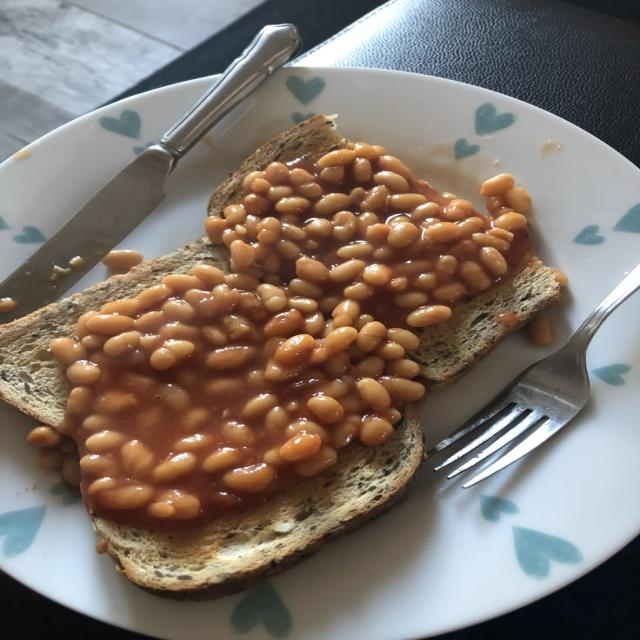beans: (147, 490, 200, 519), (223, 464, 275, 493), (152, 452, 198, 483), (150, 340, 195, 370), (100, 485, 153, 509), (274, 335, 315, 365), (120, 440, 153, 477), (295, 447, 337, 476), (207, 346, 257, 370), (380, 376, 425, 402), (280, 434, 321, 461), (156, 322, 200, 347), (357, 378, 391, 410), (264, 310, 304, 337), (307, 395, 344, 424), (360, 416, 393, 446), (203, 447, 242, 472), (87, 314, 133, 335), (214, 274, 259, 295), (407, 305, 452, 326), (242, 393, 278, 419), (356, 321, 386, 352), (103, 331, 140, 356), (324, 327, 358, 354), (51, 338, 86, 364), (287, 419, 328, 441), (460, 261, 491, 290), (86, 431, 126, 453), (242, 194, 270, 225), (314, 193, 350, 217), (158, 384, 190, 411), (102, 250, 143, 271), (161, 274, 206, 293), (138, 284, 173, 308), (332, 211, 358, 243), (330, 260, 366, 283), (296, 258, 329, 283), (222, 421, 255, 446), (423, 222, 462, 243), (67, 361, 101, 385), (27, 426, 64, 448), (257, 284, 286, 312), (379, 156, 412, 180), (480, 174, 514, 197), (387, 224, 419, 248), (162, 299, 195, 322), (527, 318, 554, 346), (480, 247, 507, 275), (374, 171, 408, 193), (180, 408, 211, 432), (67, 387, 93, 415), (360, 186, 389, 211), (317, 149, 355, 168), (134, 311, 165, 334), (332, 421, 358, 448), (505, 186, 531, 213), (324, 352, 350, 379), (230, 240, 255, 268), (472, 233, 508, 252), (388, 328, 419, 350), (100, 299, 140, 316), (432, 282, 466, 302), (174, 434, 211, 452), (387, 194, 426, 211), (354, 356, 385, 377), (337, 241, 373, 259), (257, 217, 281, 244), (61, 454, 81, 486), (263, 181, 293, 202), (386, 359, 419, 378), (493, 212, 526, 231), (265, 406, 288, 433), (75, 311, 98, 338), (435, 256, 458, 283), (363, 264, 391, 286), (449, 238, 478, 259), (275, 197, 310, 214), (201, 325, 228, 347), (206, 216, 228, 243), (205, 378, 239, 395), (83, 414, 115, 432), (37, 449, 63, 471), (411, 202, 440, 221), (319, 380, 348, 399), (394, 292, 428, 308), (375, 342, 405, 360), (332, 300, 359, 320), (305, 218, 332, 238), (304, 312, 326, 336), (343, 283, 374, 300), (88, 477, 117, 495), (458, 216, 484, 236), (353, 142, 381, 160), (276, 239, 300, 260), (319, 167, 345, 186), (446, 199, 473, 217), (366, 223, 390, 243), (288, 297, 318, 313), (413, 273, 438, 292), (354, 158, 373, 183), (319, 295, 342, 315), (281, 224, 306, 242), (243, 171, 265, 191), (296, 183, 323, 199), (358, 212, 379, 232), (80, 335, 108, 350), (487, 196, 506, 215), (140, 335, 164, 350), (487, 229, 513, 242), (354, 314, 373, 331), (551, 269, 568, 287), (381, 409, 401, 424), (253, 179, 269, 189), (76, 387, 86, 388)
sliced bread: (90, 404, 422, 599), (0, 240, 223, 423), (450, 263, 546, 346), (261, 125, 337, 160)
